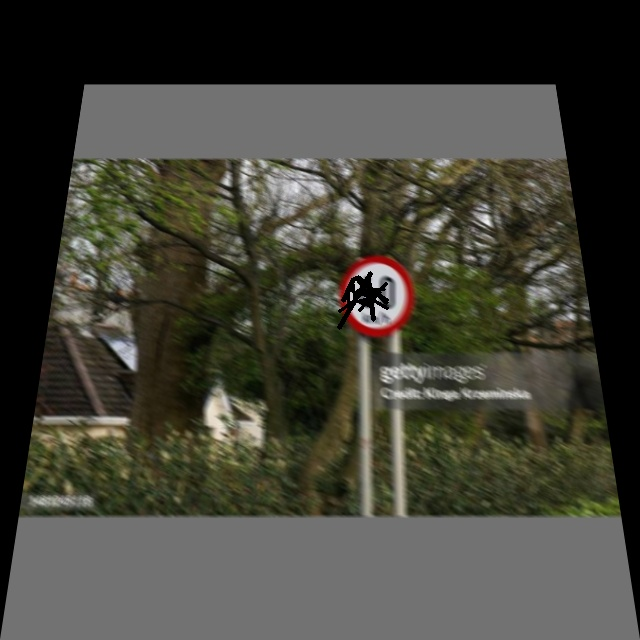Speed_Limit_60: (335, 254, 415, 340)
